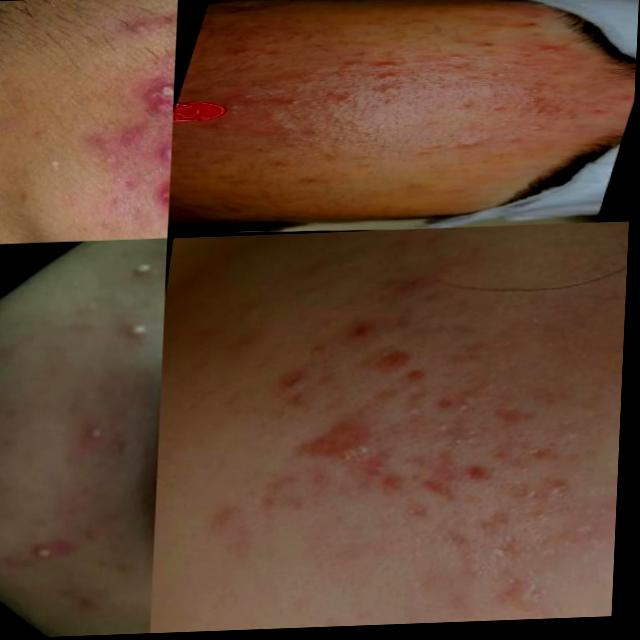8: (304, 413, 392, 477), (365, 345, 418, 383), (455, 461, 504, 494)
9: (120, 253, 169, 292), (25, 539, 76, 567), (123, 314, 160, 350), (65, 419, 113, 446), (143, 141, 174, 172)
blackheads: (118, 65, 176, 122), (416, 448, 470, 505), (259, 466, 294, 525), (493, 477, 538, 513), (467, 512, 518, 540), (149, 180, 172, 239), (264, 370, 311, 395), (380, 476, 408, 503)
